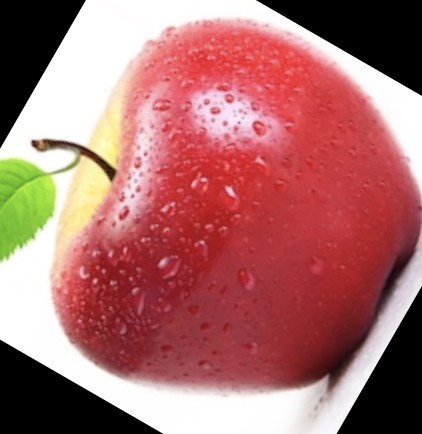fresh_apple: (52, 18, 420, 392)
